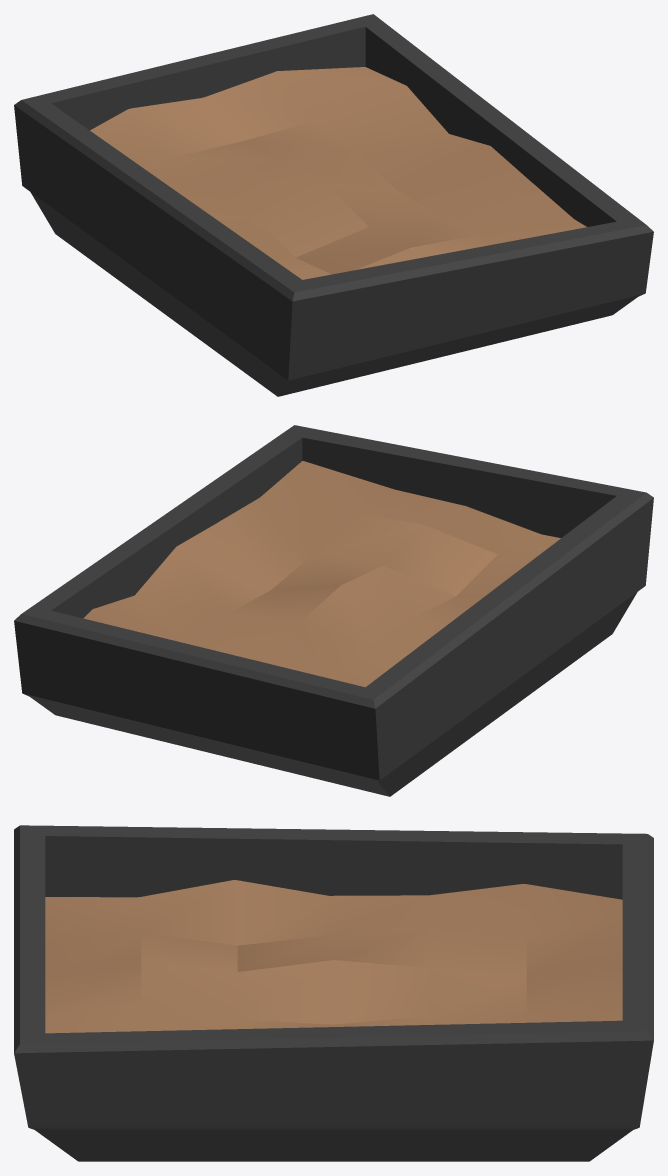
The model's file is fooddish_a001.glb.
3 renders of one model, top to bottom at view 1: azimuth 30°, elevation 25°; view 2: azimuth 150°, elevation 25°; view 3: azimuth 270°, elevation 25°, orthographic. The views are drawn at different scales.
Parts seen in each view (by area): view 1: fooddish_a001; view 2: fooddish_a001; view 3: fooddish_a001.
Boxes of the visible parts, box(x1,y1,x2,y2) form: fooddish_a001: box(14, 14, 653, 396); fooddish_a001: box(14, 425, 653, 796); fooddish_a001: box(14, 825, 653, 1161).
Size of the model in its own units: 0.7674 by 0.2537 by 1.02.
Materials: 1 (1 with a texture image).
